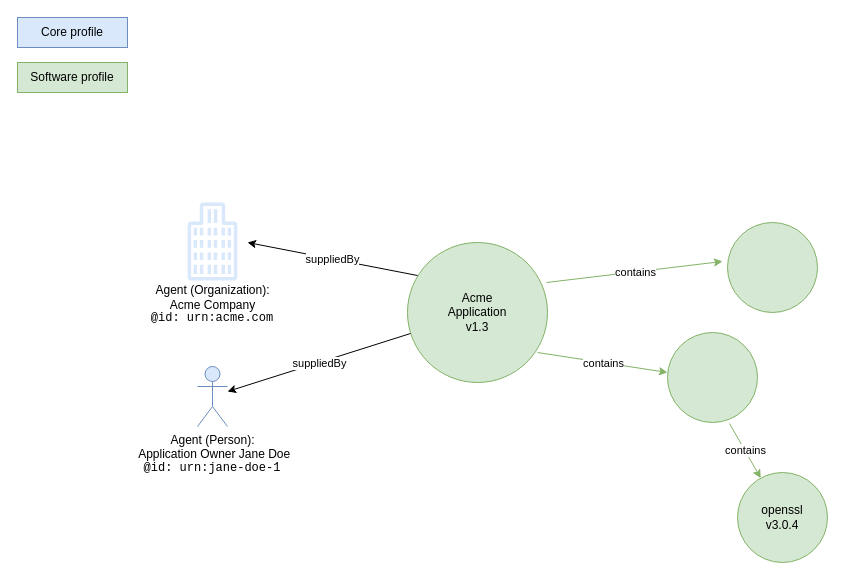
Some shapes in this 845 by 580 pixel diagram are drawn without their labels. Here are the shapes that lost their labels. From the top down, the centre of each, then its label:
[772,267]: npm-elliptic v6.5.2
[712,377]: alpine:latest (container)
